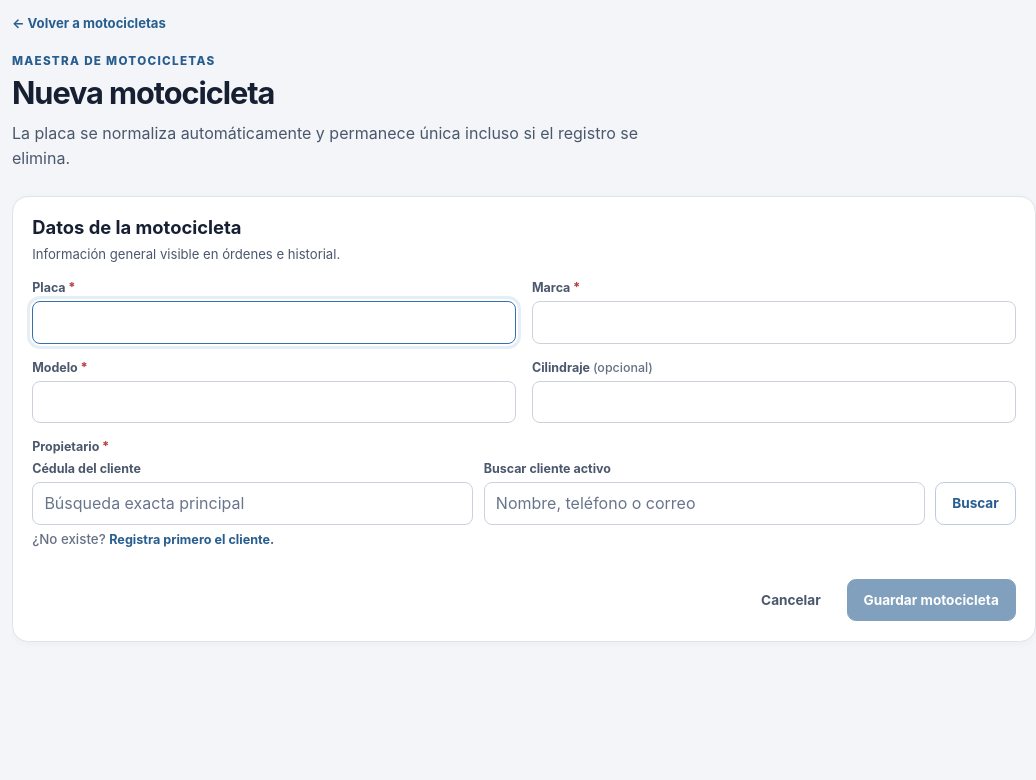
Test: Motorcycle master screens › uses exact document lookup as the primary owner search
The width and height of the screenshot is (1036, 780).
Type "1.020-304.050" into the field labelled "Cédula del cliente".
click(253, 504); type("1.020-304.050")  # box 32,482 -> 473,525
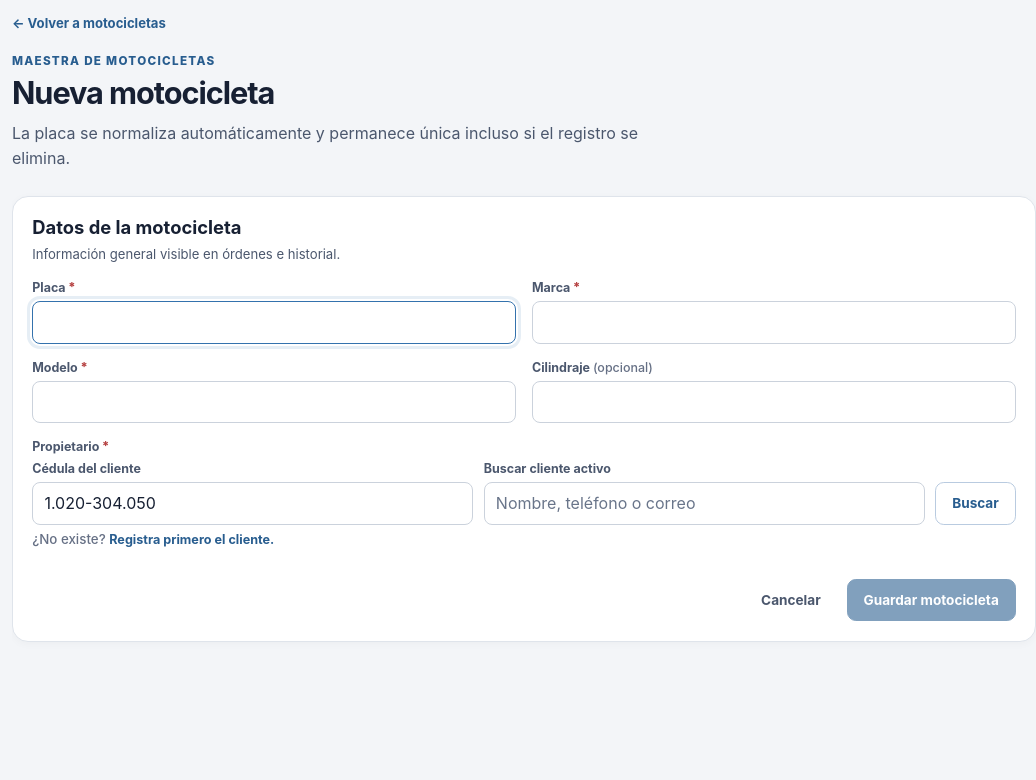
Press Enter in the field labelled "Cédula del cliente", box 32,482 -> 473,525
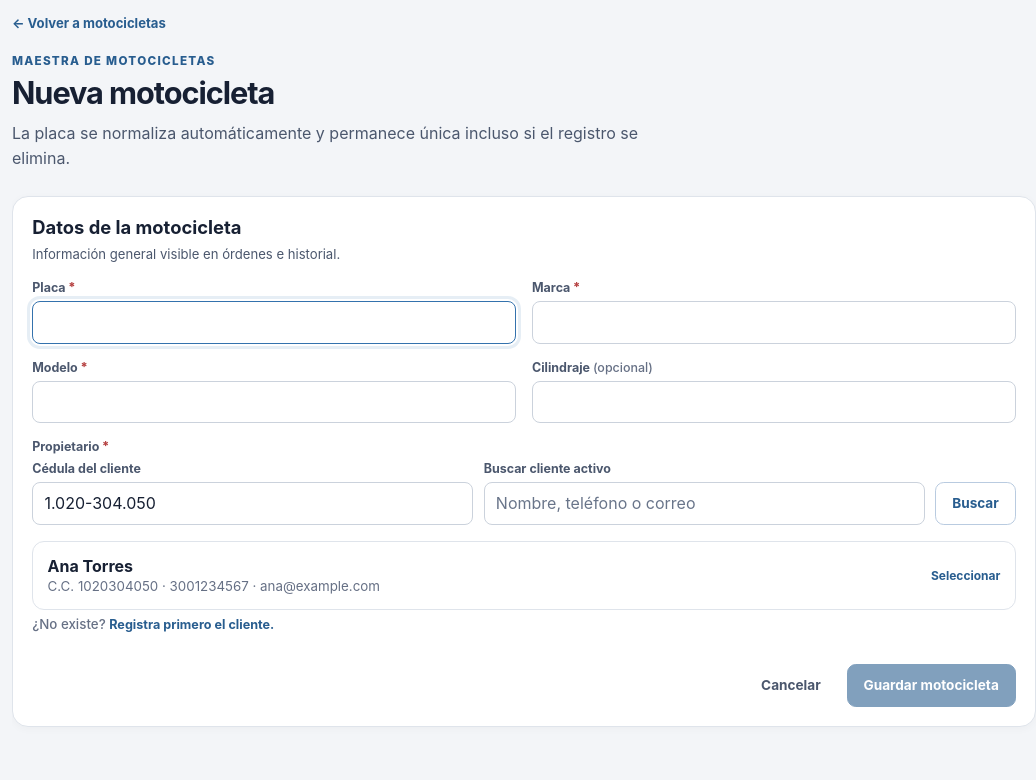
Now the button "Ana Torres" is shown, box 32,541 -> 1016,610
